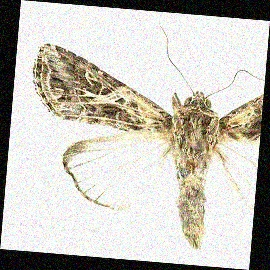Spodoptera litura: (27, 25, 259, 246)
